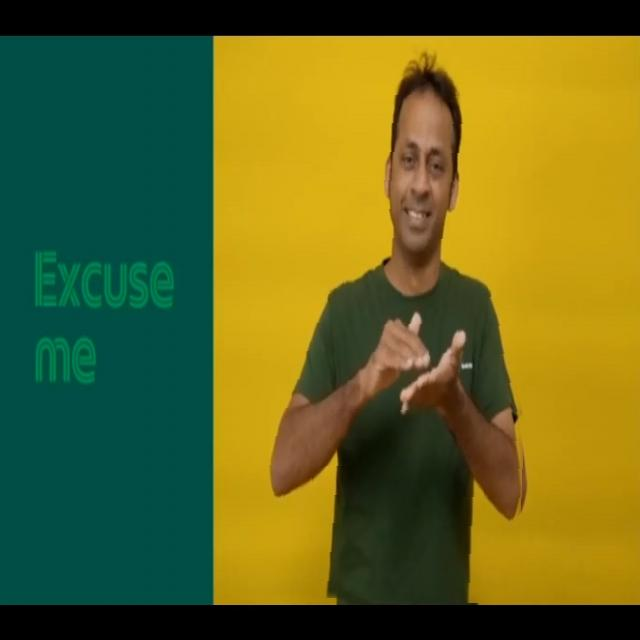ExcuseMe: (269, 45, 533, 602)
